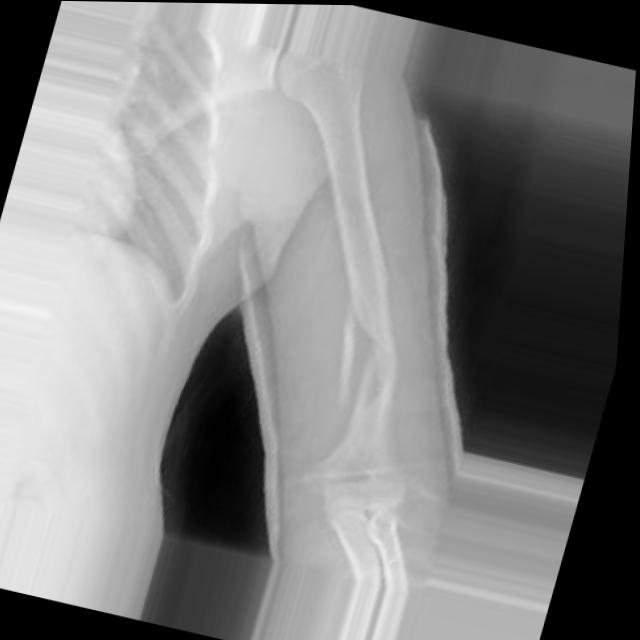fracture: (317, 299, 434, 419)
